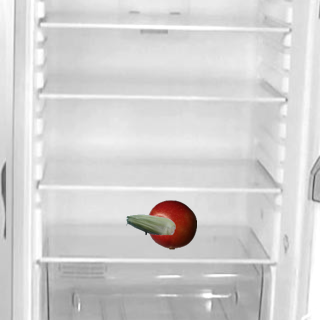Apple Braeburn: (146, 199, 196, 249)
Corn Husk: (125, 199, 175, 249)
